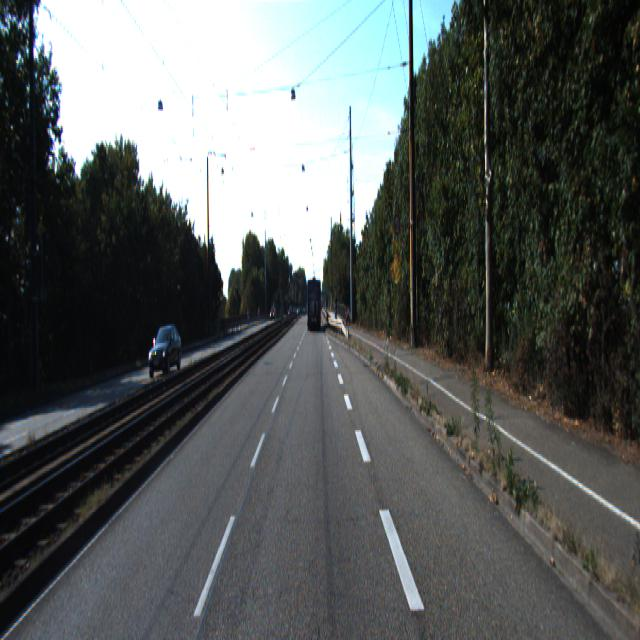Car: (148, 326, 183, 381), (306, 278, 322, 331)
